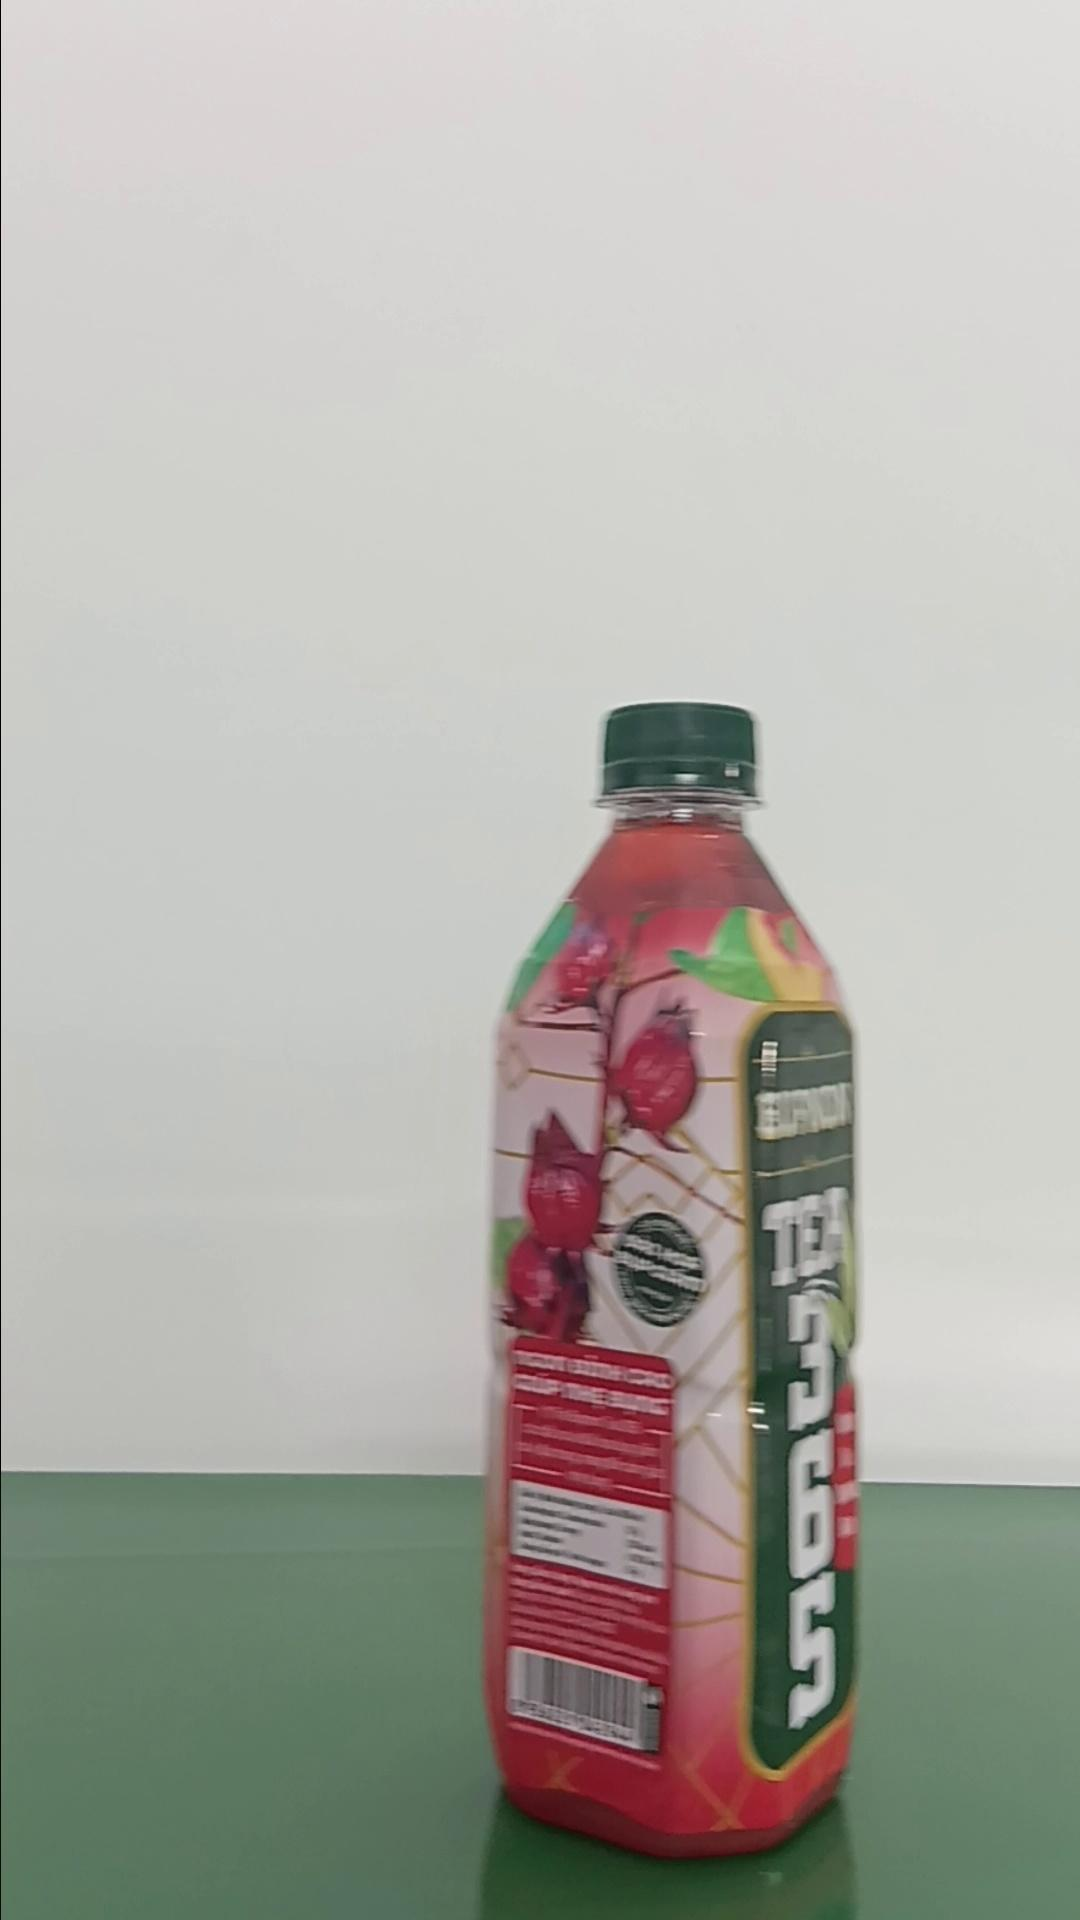khong loi: (477, 698, 866, 1859)
